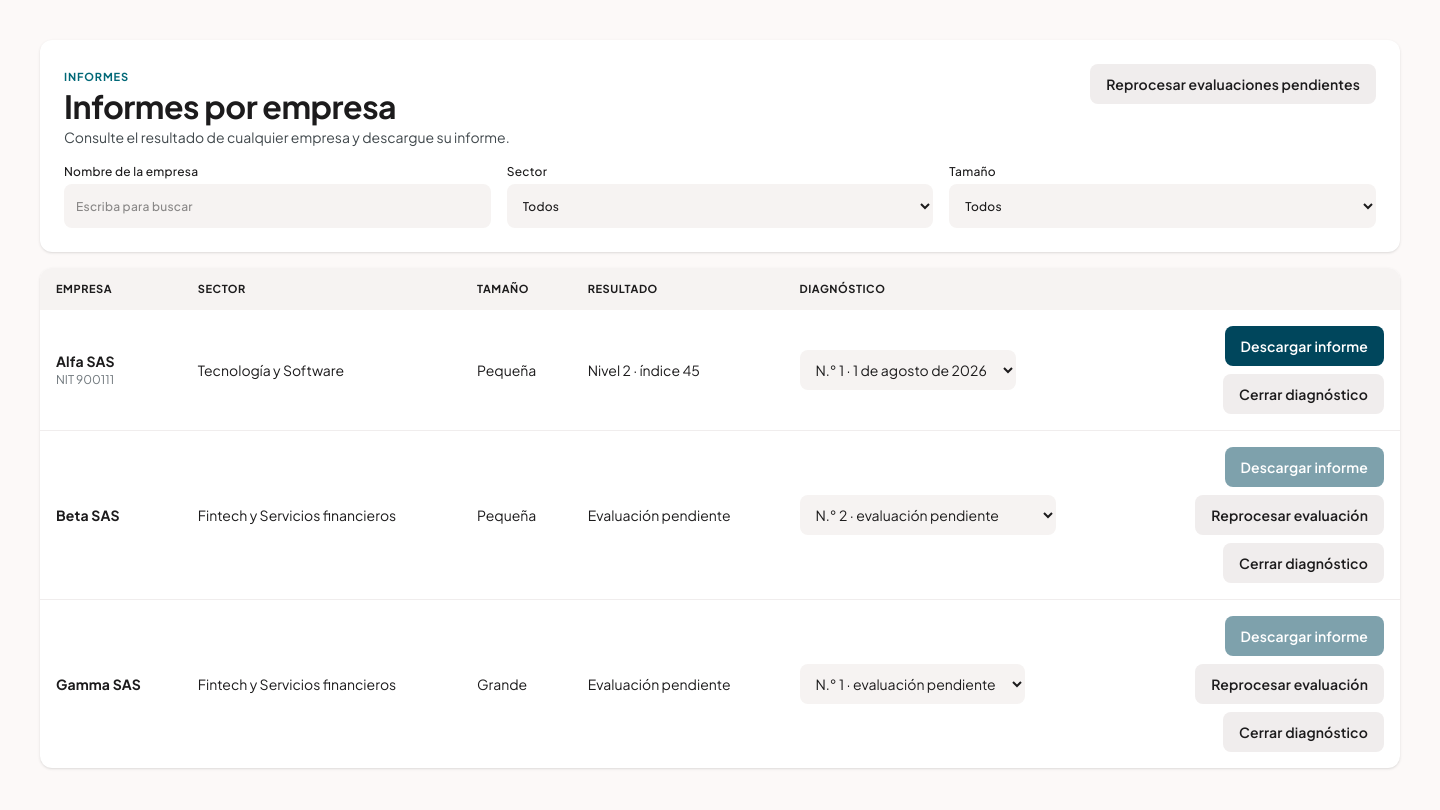
Informes por empresa: cierre y reproceso por el administrador › el diagnóstico con evaluación pendiente se elige en la lista, no tiene informe y se puede reprocesar
Expected: the dropdown named "Diagnóstico de Beta SAS" shows "N.° 2 · evaluación pendiente", [800,495,1056,535]
Expected: the text "Evaluación pendiente" in the row of "Beta SAS" is shown, [588,506,731,524]
Click the button with aria-label "Reprocesar la evaluación del diagnóstico N.° 2 de Beta SAS" at point(1290, 515), box [1195,495,1384,535]
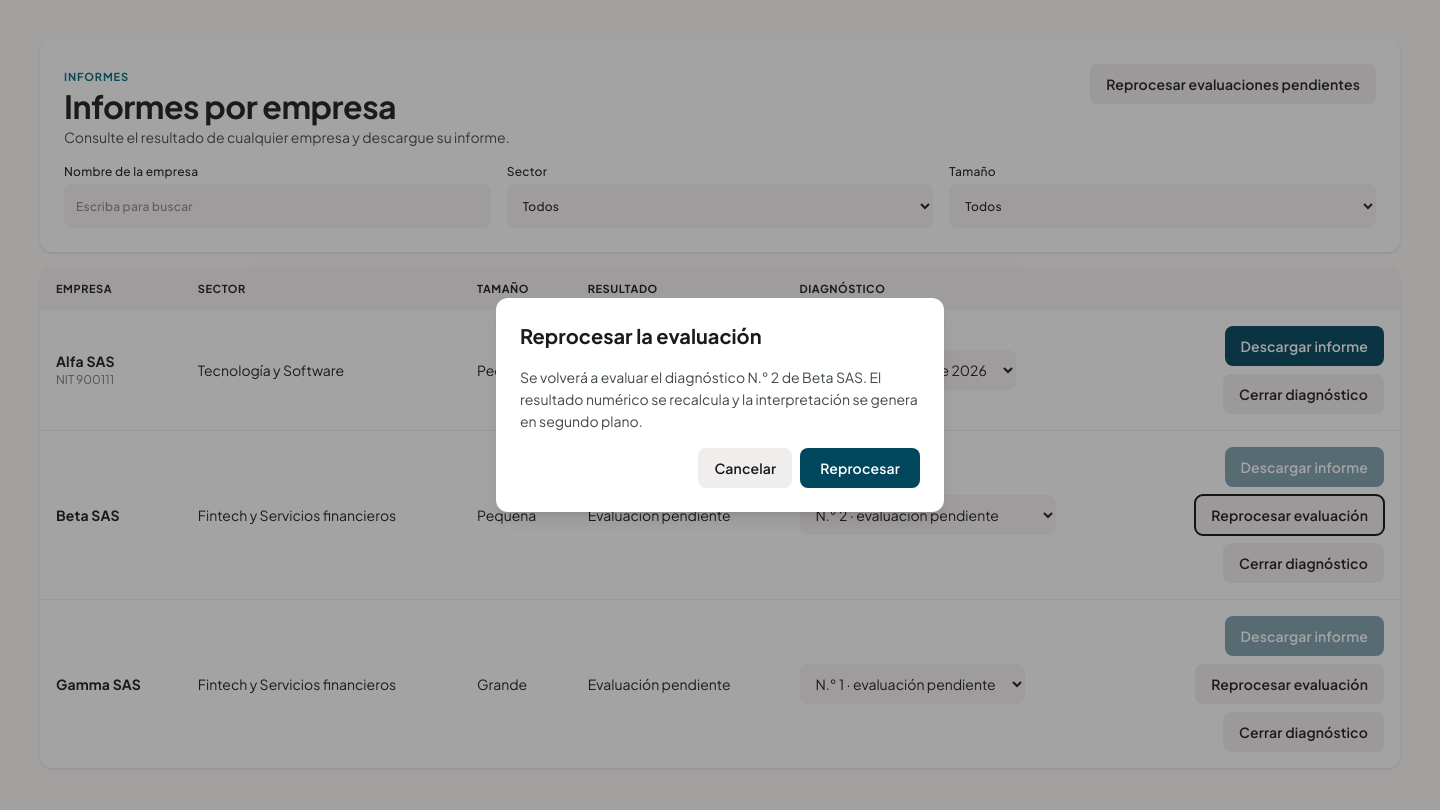
Click the button "Reprocesar" at point(860, 468), box [800,448,920,488]
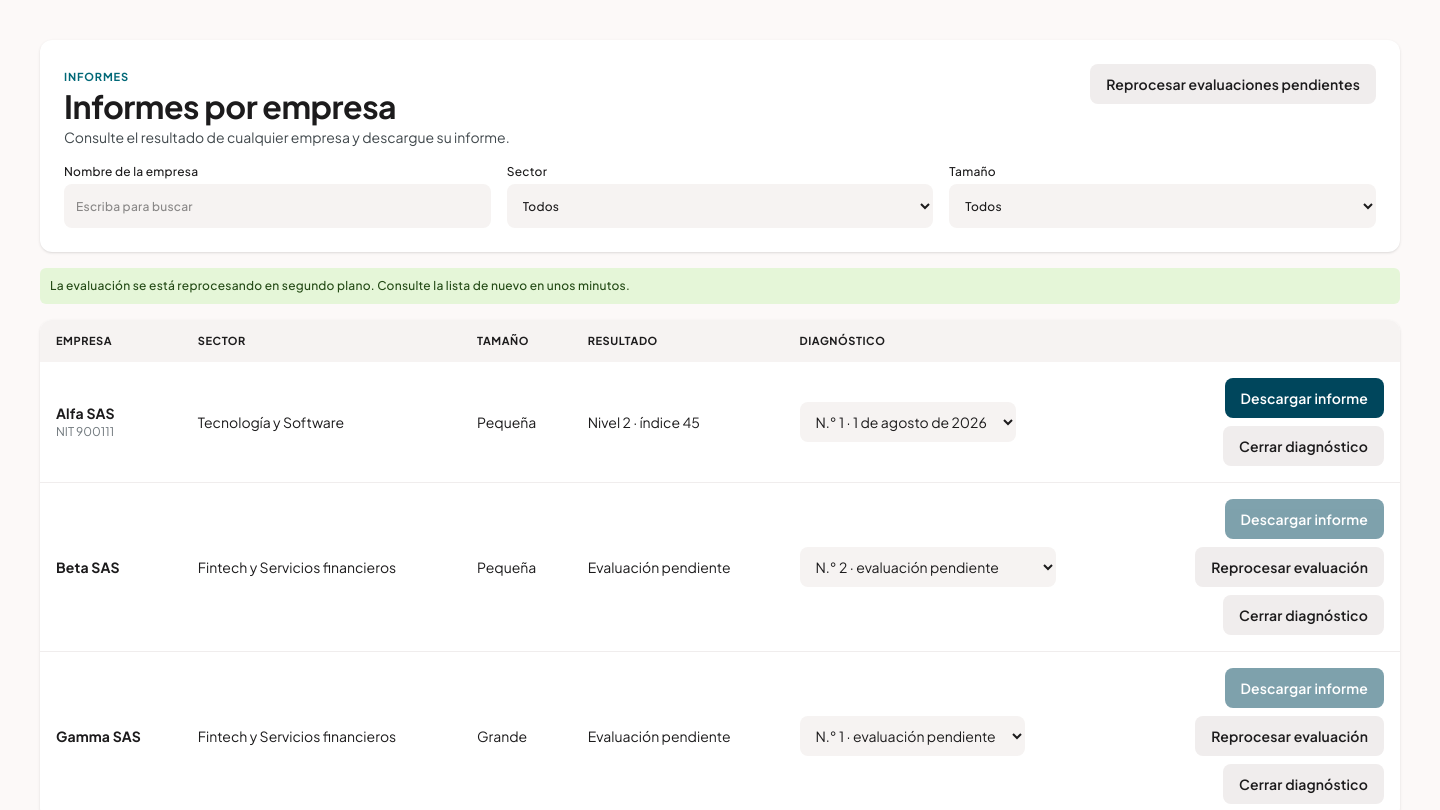
Now the text "se está reprocesando en segundo plano" is shown, box [50,278,630,293]
